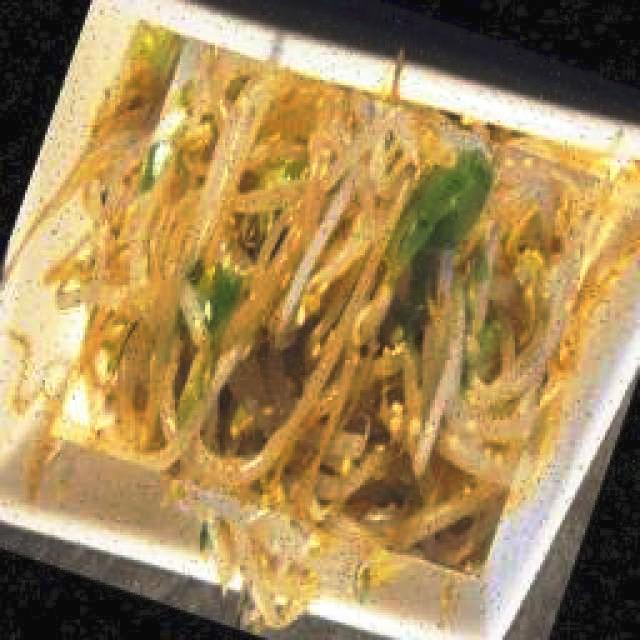mung_bean_sprouts: (86, 4, 564, 604)
